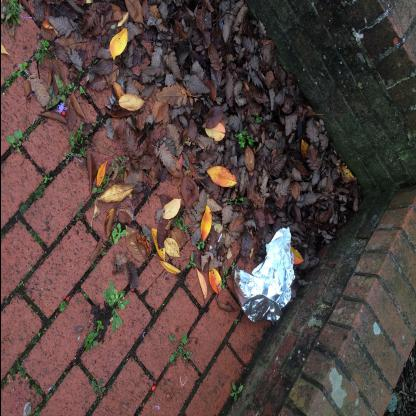metal: (233, 226, 294, 324)
